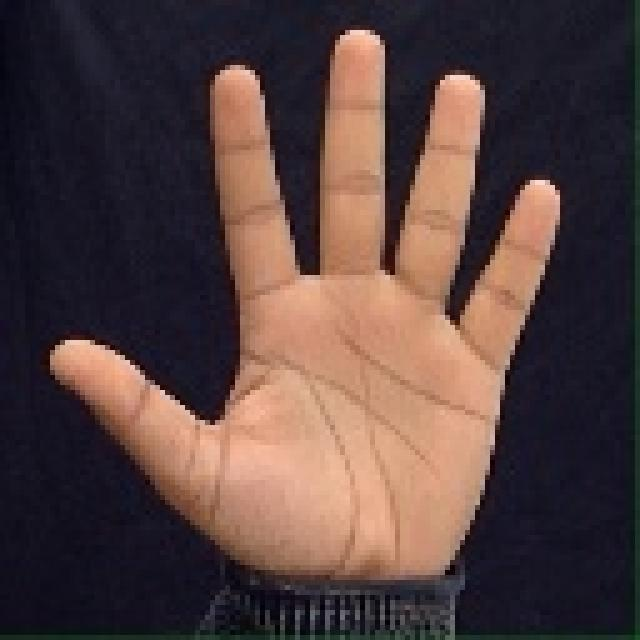Numeric-5: (37, 23, 563, 603)
